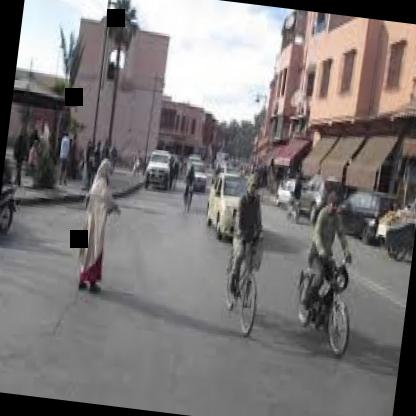car: (202, 158, 268, 245), (324, 180, 394, 248), (290, 165, 340, 224), (141, 132, 173, 192), (184, 165, 208, 192)
